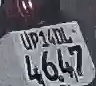1: (37, 30, 48, 48)
4: (25, 52, 44, 84), (55, 49, 73, 76), (46, 30, 56, 45)
6: (41, 50, 59, 81)
7: (68, 47, 84, 75)
D: (53, 26, 64, 44)
L: (60, 26, 73, 43)
P: (29, 31, 41, 46)
U: (19, 32, 33, 50)
